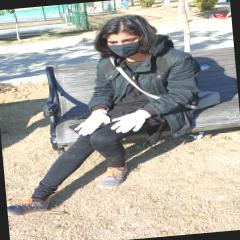gloved: (73, 109, 111, 137), (109, 110, 152, 134)
